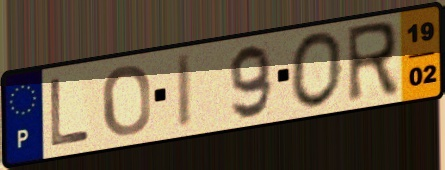9: (226, 41, 276, 121)
I: (174, 50, 196, 131)
L: (47, 76, 93, 150)
O: (287, 28, 345, 111), (100, 62, 153, 139)
R: (344, 18, 402, 107)
